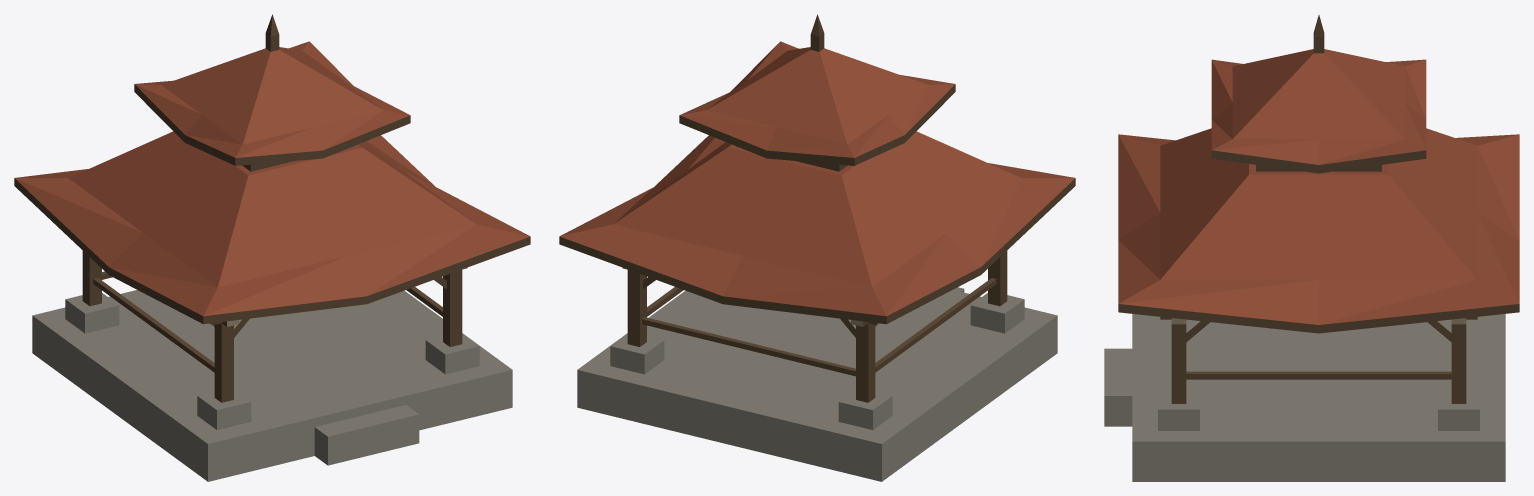
Rendered from pagoda.glb.
3 views of the same model, side by side, from view 1: azimuth 30°, elevation 25°; view 2: azimuth 150°, elevation 25°; view 3: azimuth 270°, elevation 25° (orthographic). The views are drawn at different scales.
Visible parts, largest first — view 1: Pagoda; view 2: Pagoda; view 3: Pagoda.
Boxes of the visible parts, bbox=[...] form: Pagoda: bbox=[14, 14, 530, 481]; Pagoda: bbox=[559, 14, 1075, 481]; Pagoda: bbox=[1104, 15, 1519, 481].
Size of the model in its own units: 8.6 by 9.2 by 8.9.
